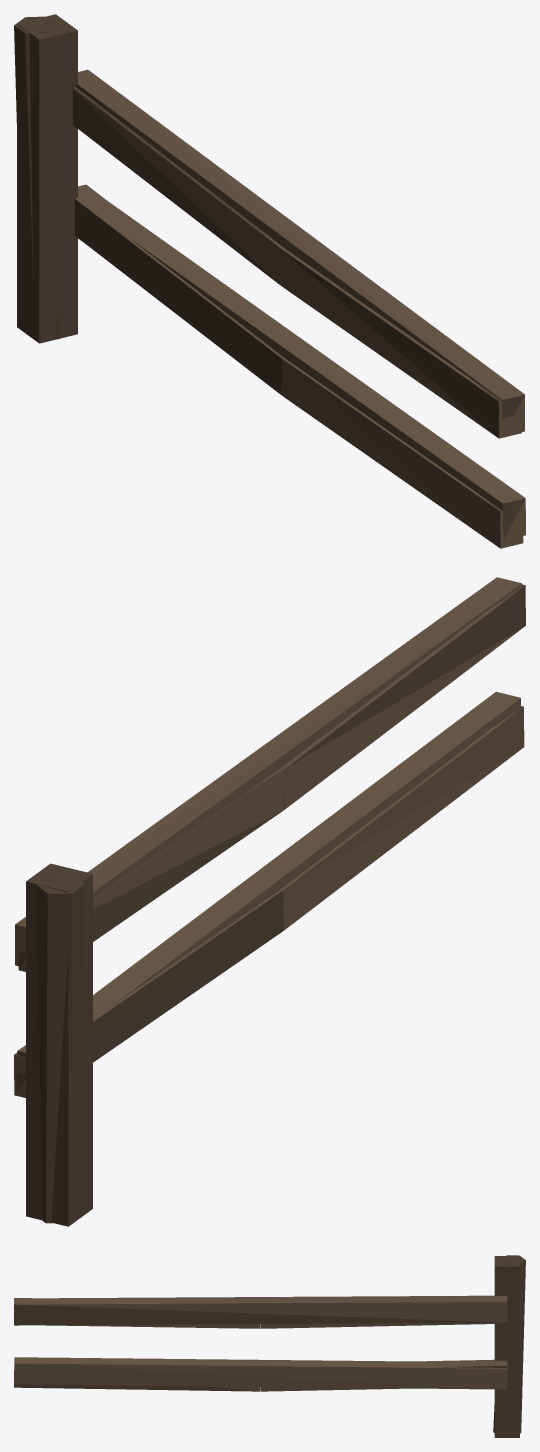
File: fence.glb
3 renders of one model, top to bottom at view 1: azimuth 30°, elevation 25°; view 2: azimuth 150°, elevation 25°; view 3: azimuth 270°, elevation 25°, orthographic. The views are drawn at different scales.
Visible parts, largest first — view 1: lod1_post, lod1_rail1, lod1_rail0, lod0_rail0a, lod0_rail1b, lod0_rail0b, lod0_rail1a, lod0_post; view 2: lod1_rail0, lod1_rail1, lod1_post, lod0_post, lod0_rail1b, lod0_rail0b, lod0_rail1a, lod0_rail0a; view 3: lod1_rail1, lod1_rail0, lod1_post, lod0_rail0b, lod0_rail0a, lod0_rail1a, lod0_post, lod0_rail1b.
Boxes of the visible parts, x1,y1,x2,y2 form: lod1_post: (17,14,77,343); lod1_rail1: (76,69,524,431); lod1_rail0: (77,203,525,540); lod0_rail0a: (74,184,283,395); lod0_rail1b: (280,247,521,438); lod0_rail0b: (282,358,523,548); lod0_rail1a: (73,87,283,284); lod0_post: (14,16,62,339); lod1_rail0: (14,692,520,1097); lod1_rail1: (15,577,521,966); lod1_post: (26,863,92,1226); lod0_post: (35,874,86,1223); lod0_rail1b: (281,584,525,809); lod0_rail0b: (280,706,524,930); lod0_rail1a: (18,768,284,971); lod0_rail0a: (17,890,283,1093); lod1_rail1: (14,1295,507,1325); lod1_rail0: (14,1357,507,1389); lod1_post: (494,1256,519,1437); lod0_rail0b: (14,1384,260,1391); lod0_rail0a: (261,1359,507,1391); lod0_rail1a: (261,1318,507,1328); lod0_post: (493,1255,525,1433); lod0_rail1b: (14,1298,260,1328).
Bounding box in the file's own units: 0.2525 × 1.15 × 3.12.
